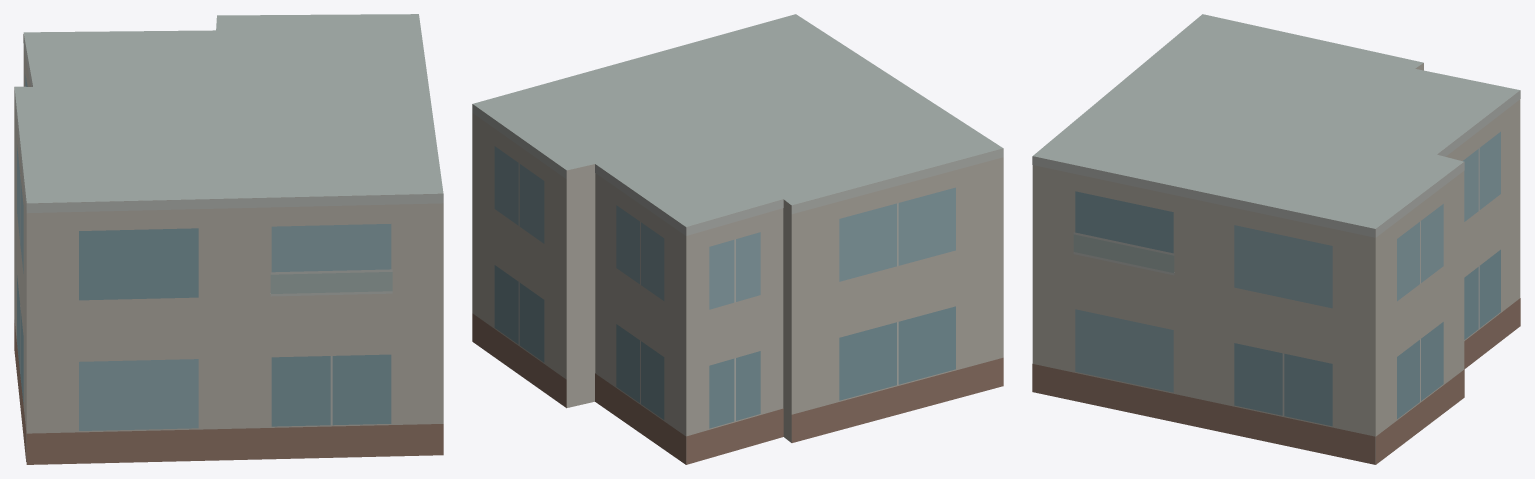
File: survey-upis-32657486.glb
The picture shows the model from 3 angles, left to right: view 1: azimuth 30°, elevation 25°; view 2: azimuth 150°, elevation 25°; view 3: azimuth 270°, elevation 25°; orthographic projection. The views are drawn at different scales.
Parts seen in each view (by area): view 1: survey-upis-32657486.tmp; view 2: survey-upis-32657486.tmp; view 3: survey-upis-32657486.tmp.
Boxes of the visible parts, x1=… form: survey-upis-32657486.tmp: x1=14, y1=14, x2=443, y2=464; survey-upis-32657486.tmp: x1=472, y1=14, x2=1003, y2=464; survey-upis-32657486.tmp: x1=1032, y1=14, x2=1520, y2=464.
Bounding box in the file's own units: 12.71 × 6.5 × 12.19.
